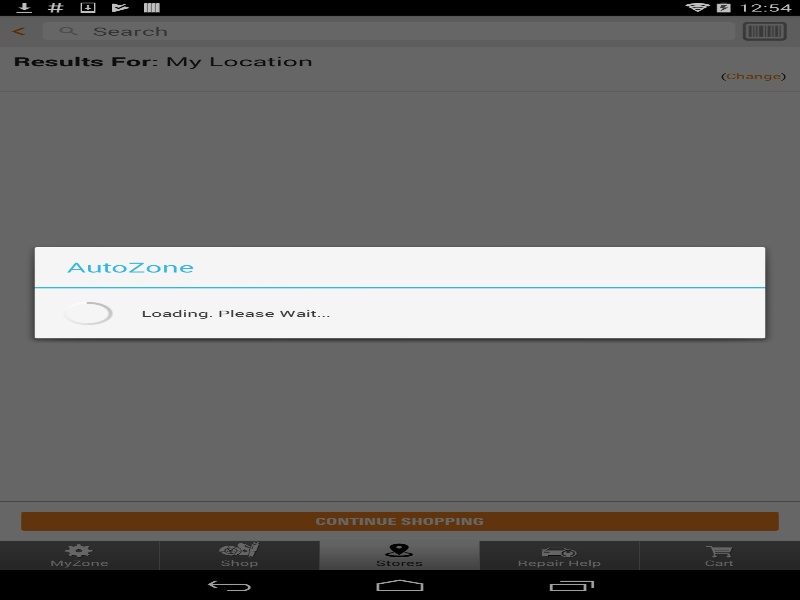Input: (92, 21, 736, 40)
